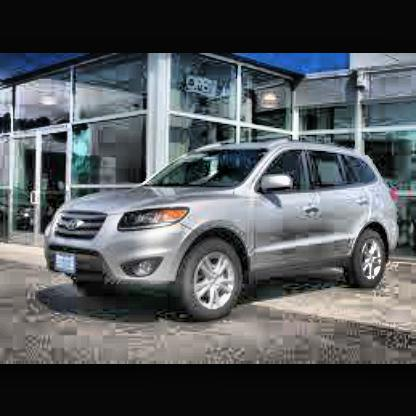Hyundai Santa Fe SUV 2012: (30, 108, 410, 345)
